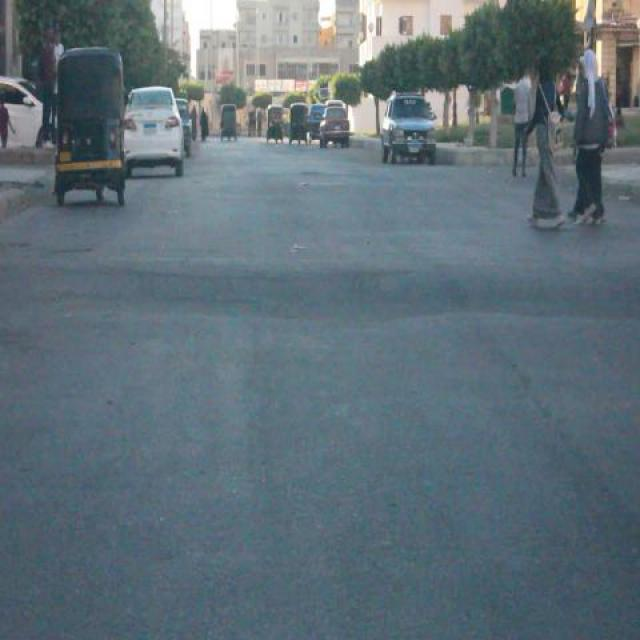Unmarked Bump: (0, 254, 640, 324)
